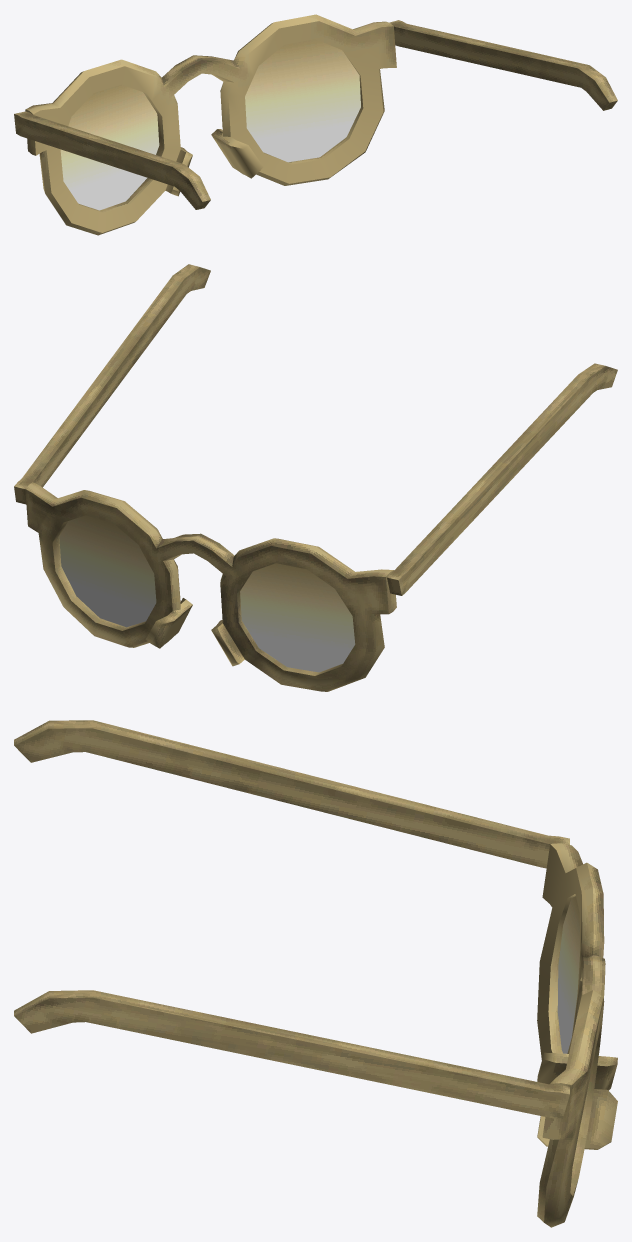
File: reading_glasses.glb
3 renders of one model, top to bottom at view 1: azimuth 30°, elevation 25°; view 2: azimuth 150°, elevation 25°; view 3: azimuth 270°, elevation 25°, orthographic. The views are drawn at different scales.
Visible parts, largest first — view 1: cosmetic_reading glasses; view 2: cosmetic_reading glasses; view 3: cosmetic_reading glasses.
Boxes of the visible parts, bbox=[...] form: cosmetic_reading glasses: bbox=[14, 14, 617, 235]; cosmetic_reading glasses: bbox=[14, 264, 617, 691]; cosmetic_reading glasses: bbox=[14, 720, 617, 1227].
Bounding box in the file's own units: 0.4354 × 0.2132 × 0.3994.
Materials: 1 (1 with a texture image).
